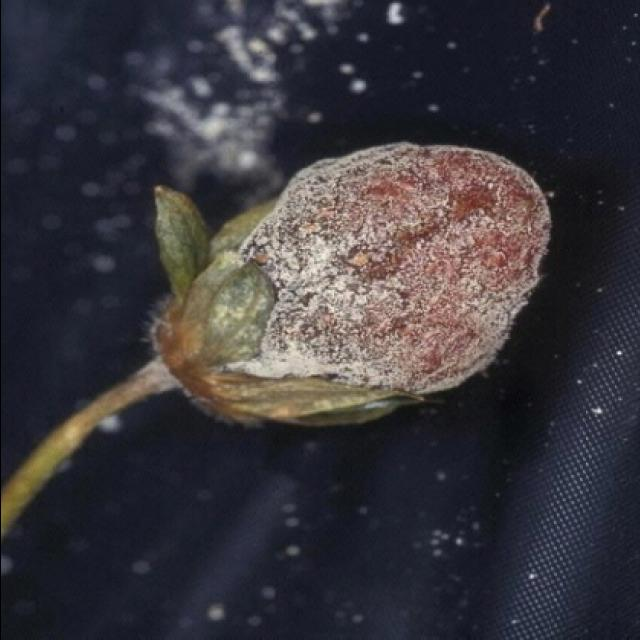Gray Mold: (153, 140, 553, 430)
